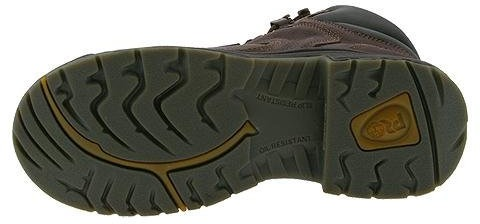circle: (344, 92, 429, 158)
exclude: (172, 3, 431, 63)
line: (19, 132, 66, 178)
other: (265, 114, 288, 139)
quad: (344, 92, 429, 158)
text: (344, 92, 429, 158), (253, 92, 273, 111), (288, 135, 300, 147)
